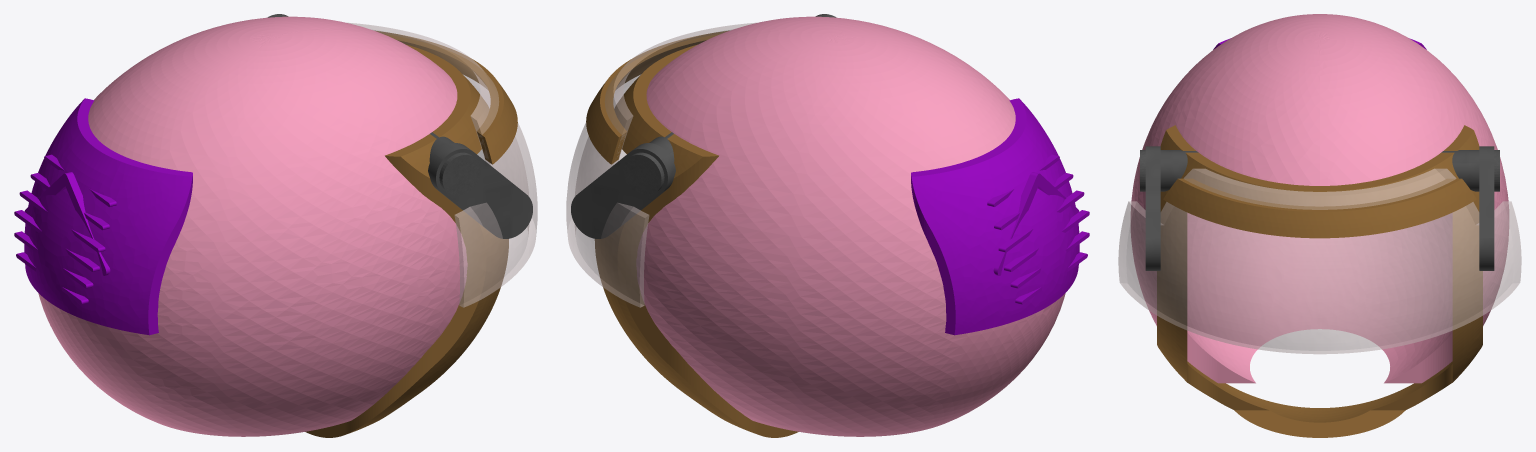
File: Headwear_Racing_helmet__0014.glb
3 views of the same model, side by side, from view 1: azimuth 30°, elevation 25°; view 2: azimuth 150°, elevation 25°; view 3: azimuth 270°, elevation 25° (orthographic). The views are drawn at different scales.
Visible parts, largest first — view 1: shell::shell_dome, shell::rear_occipital_panel, shell::face_rim, visor::visor_panel, visor::visor_pivot_arms, visor::visor_trim, pivot_stud_right::pivot_stud_right, shell::rear_chevron_ridge_1, shell::rear_vent_slit_2, shell::rear_vent_slit_3; view 2: shell::shell_dome, shell::rear_occipital_panel, shell::face_rim, visor::visor_panel, visor::visor_pivot_arms, visor::visor_trim, pivot_stud_left::pivot_stud_left, shell::rear_chevron_ridge_0, shell::rear_vent_slit_3, shell::rear_vent_slit_2; view 3: shell::shell_dome, visor::visor_panel, shell::face_rim, visor::visor_trim, visor::visor_pivot_arms, visor::visor_axle.
Boxes of the visible parts, left/top/right/bottom form: shell::shell_dome: left=38, top=16, right=467, bottom=436; shell::rear_occipital_panel: left=24, top=98, right=192, bottom=335; shell::face_rim: left=305, top=44, right=508, bottom=437; visor::visor_panel: left=347, top=22, right=537, bottom=307; visor::visor_pivot_arms: left=267, top=14, right=532, bottom=238; visor::visor_trim: left=376, top=31, right=517, bottom=164; pivot_stud_right::pivot_stud_right: left=439, top=152, right=480, bottom=195; shell::rear_chevron_ridge_1: left=63, top=172, right=110, bottom=275; shell::rear_vent_slit_2: left=14, top=210, right=99, bottom=271; shell::rear_vent_slit_3: left=19, top=190, right=105, bottom=252; shell::shell_dome: left=636, top=16, right=1065, bottom=436; shell::rear_occipital_panel: left=911, top=98, right=1079, bottom=335; shell::face_rim: left=594, top=44, right=798, bottom=437; visor::visor_panel: left=566, top=22, right=756, bottom=307; visor::visor_pivot_arms: left=571, top=14, right=836, bottom=238; visor::visor_trim: left=586, top=31, right=727, bottom=164; pivot_stud_left::pivot_stud_left: left=623, top=152, right=664, bottom=195; shell::rear_chevron_ridge_0: left=993, top=172, right=1040, bottom=275; shell::rear_vent_slit_3: left=998, top=190, right=1084, bottom=252; shell::rear_vent_slit_2: left=1004, top=210, right=1089, bottom=271; shell::shell_dome: left=1131, top=14, right=1508, bottom=383; visor::visor_panel: left=1118, top=168, right=1521, bottom=354; shell::face_rim: left=1157, top=125, right=1482, bottom=437; visor::visor_trim: left=1163, top=178, right=1476, bottom=238; visor::visor_pivot_arms: left=1145, top=146, right=1494, bottom=270; visor::visor_axle: left=1160, top=150, right=1479, bottom=191.
Size of the model in its own units: 0.268 by 0.2159 by 0.2127.
Materials: 5 (3 with a texture image).
